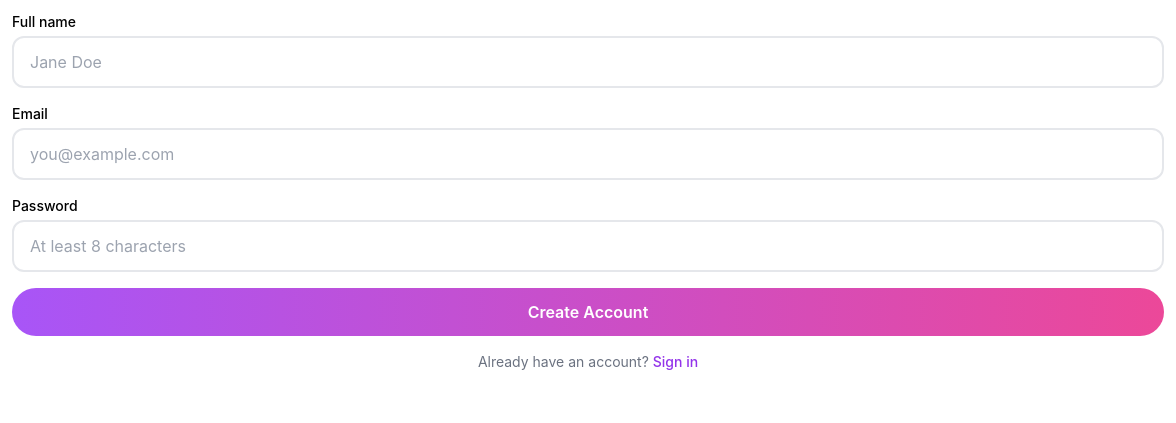
Scenario: RegisterForm › surfaces a backend error message on failed registration
Type "jane@example.com" into the field labelled "Email" at (588, 154), box [12,128,1164,180]
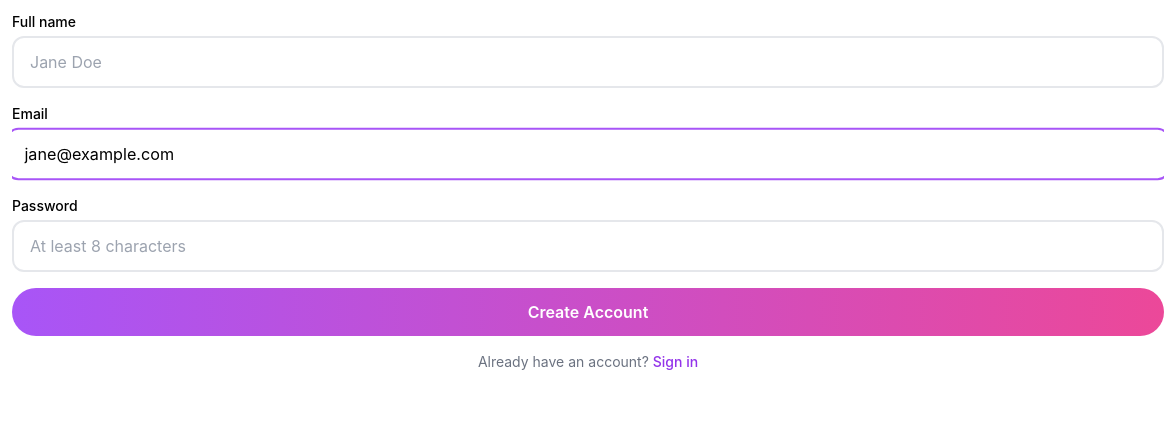
Type "password123" into the password field labelled "Password" at (588, 246), box [12,220,1164,272]
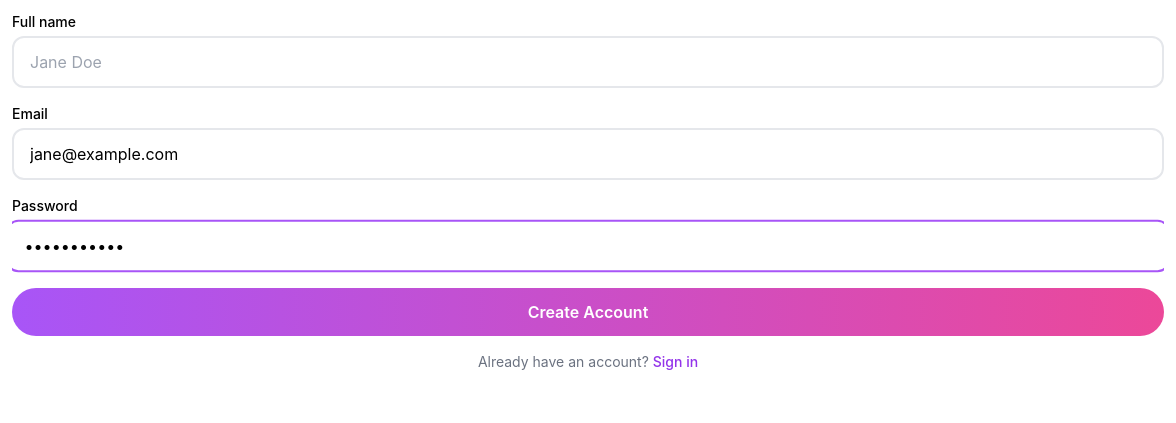
Click the button "Create Account" at (588, 312), box [12,288,1164,336]
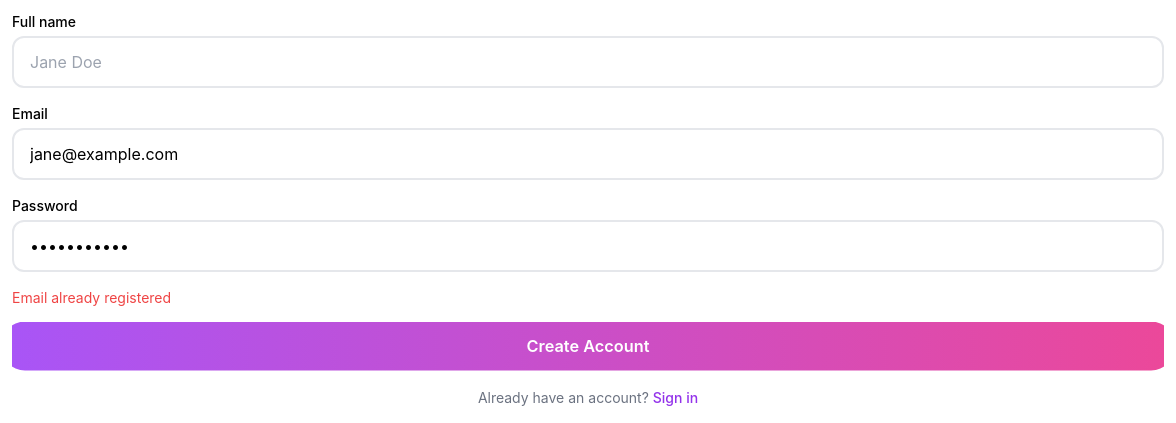
Expected: the message reads "Email already registered", [12,289,171,306]
